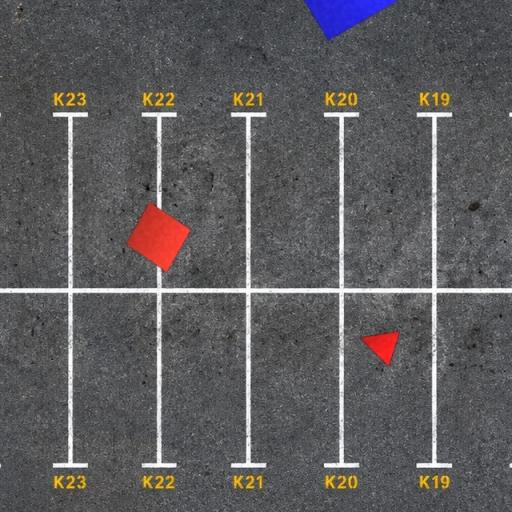RED_SQUARE: (125, 202, 192, 272)
